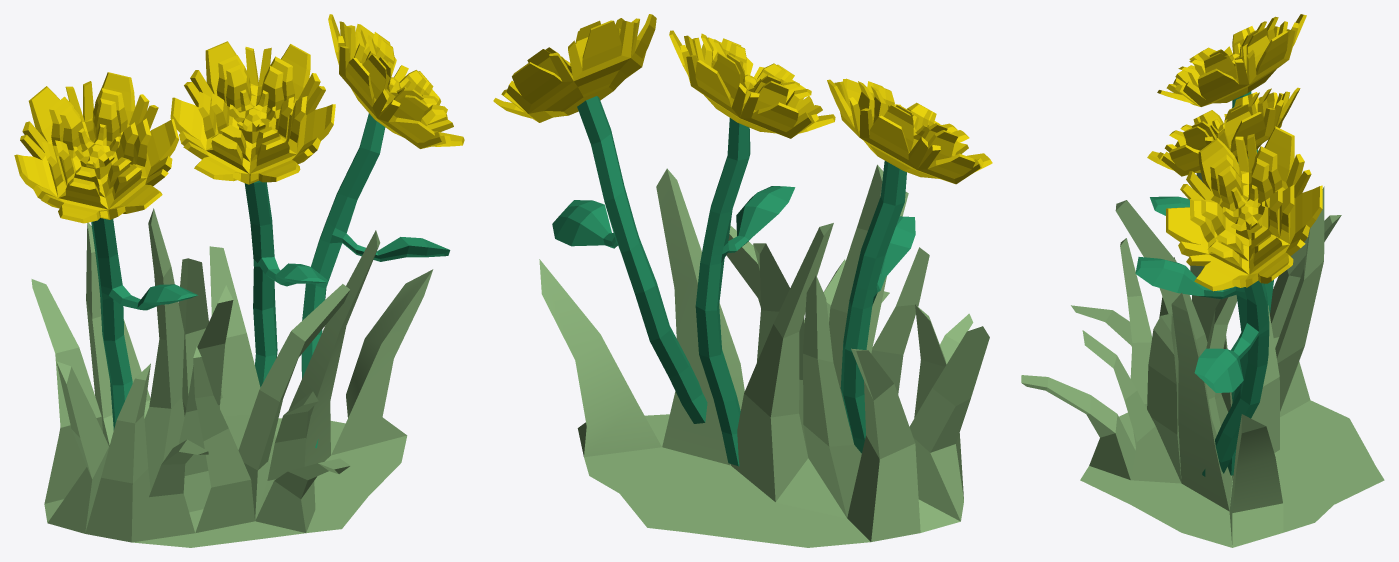
The model's file is Dandelions.fbx.
The picture shows the model from 3 angles, left to right: view 1: azimuth 30°, elevation 25°; view 2: azimuth 150°, elevation 25°; view 3: azimuth 270°, elevation 25°; orthographic projection. The views are drawn at different scales.
Parts seen in each view (by area): view 1: pPlane2, polySurface5 (×2), polySurface4 (×2), polySurface9, polySurface8; view 2: pPlane2, polySurface4 (×2), polySurface5 (×2), polySurface8, polySurface9; view 3: pPlane2, polySurface9, polySurface5 (×2), polySurface8, polySurface4 (×2).
Part boxes in pixels (bbox=[...]): pPlane2: bbox=[31, 208, 433, 547]; polySurface5 (×2): bbox=[14, 41, 335, 223]; polySurface4 (×2): bbox=[91, 181, 327, 430]; polySurface9: bbox=[328, 14, 464, 148]; polySurface8: bbox=[301, 113, 450, 448]; pPlane2: bbox=[539, 164, 989, 547]; polySurface4 (×2): bbox=[695, 118, 915, 466]; polySurface5 (×2): bbox=[669, 30, 992, 184]; polySurface8: bbox=[552, 96, 707, 423]; polySurface9: bbox=[493, 14, 656, 122]; pPlane2: bbox=[1021, 173, 1384, 547]; polySurface9: bbox=[1166, 126, 1322, 291]; polySurface5 (×2): bbox=[1147, 14, 1306, 176]; polySurface8: bbox=[1194, 280, 1269, 476]; polySurface4 (×2): bbox=[1135, 91, 1273, 475].
Bounding box in the file's own units: 7.54 × 6.84 × 5.7.
